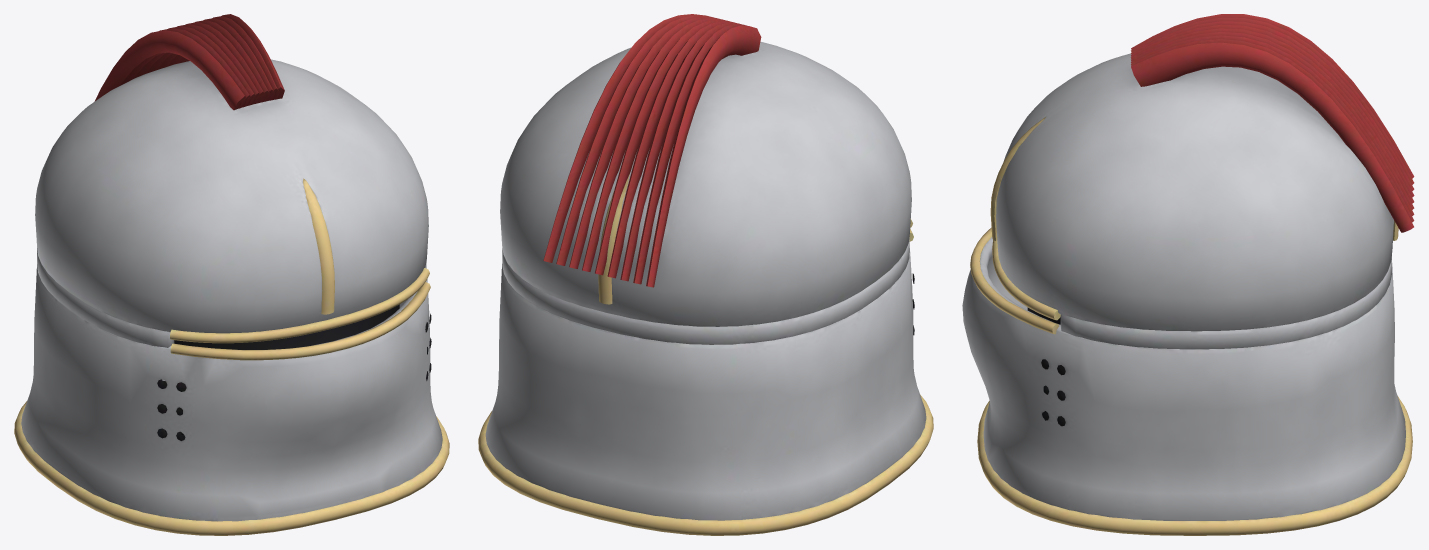
File: knight_helmet.fbx
3 renders of one model, left to right at view 1: azimuth 30°, elevation 25°; view 2: azimuth 150°, elevation 25°; view 3: azimuth 270°, elevation 25°, orthographic. The views are drawn at different scales.
Visible parts, largest first — view 1: Head; view 2: Head; view 3: Head.
Boxes of the visible parts, box(x1,y1,x2,y2) form: Head: box(14, 14, 449, 535); Head: box(478, 14, 933, 535); Head: box(962, 14, 1414, 535).
Size of the model in its own units: 1.66 by 1.81 by 1.76.
Materials: 1 (1 with a texture image).
